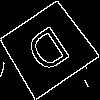D: (23, 24, 79, 83)
